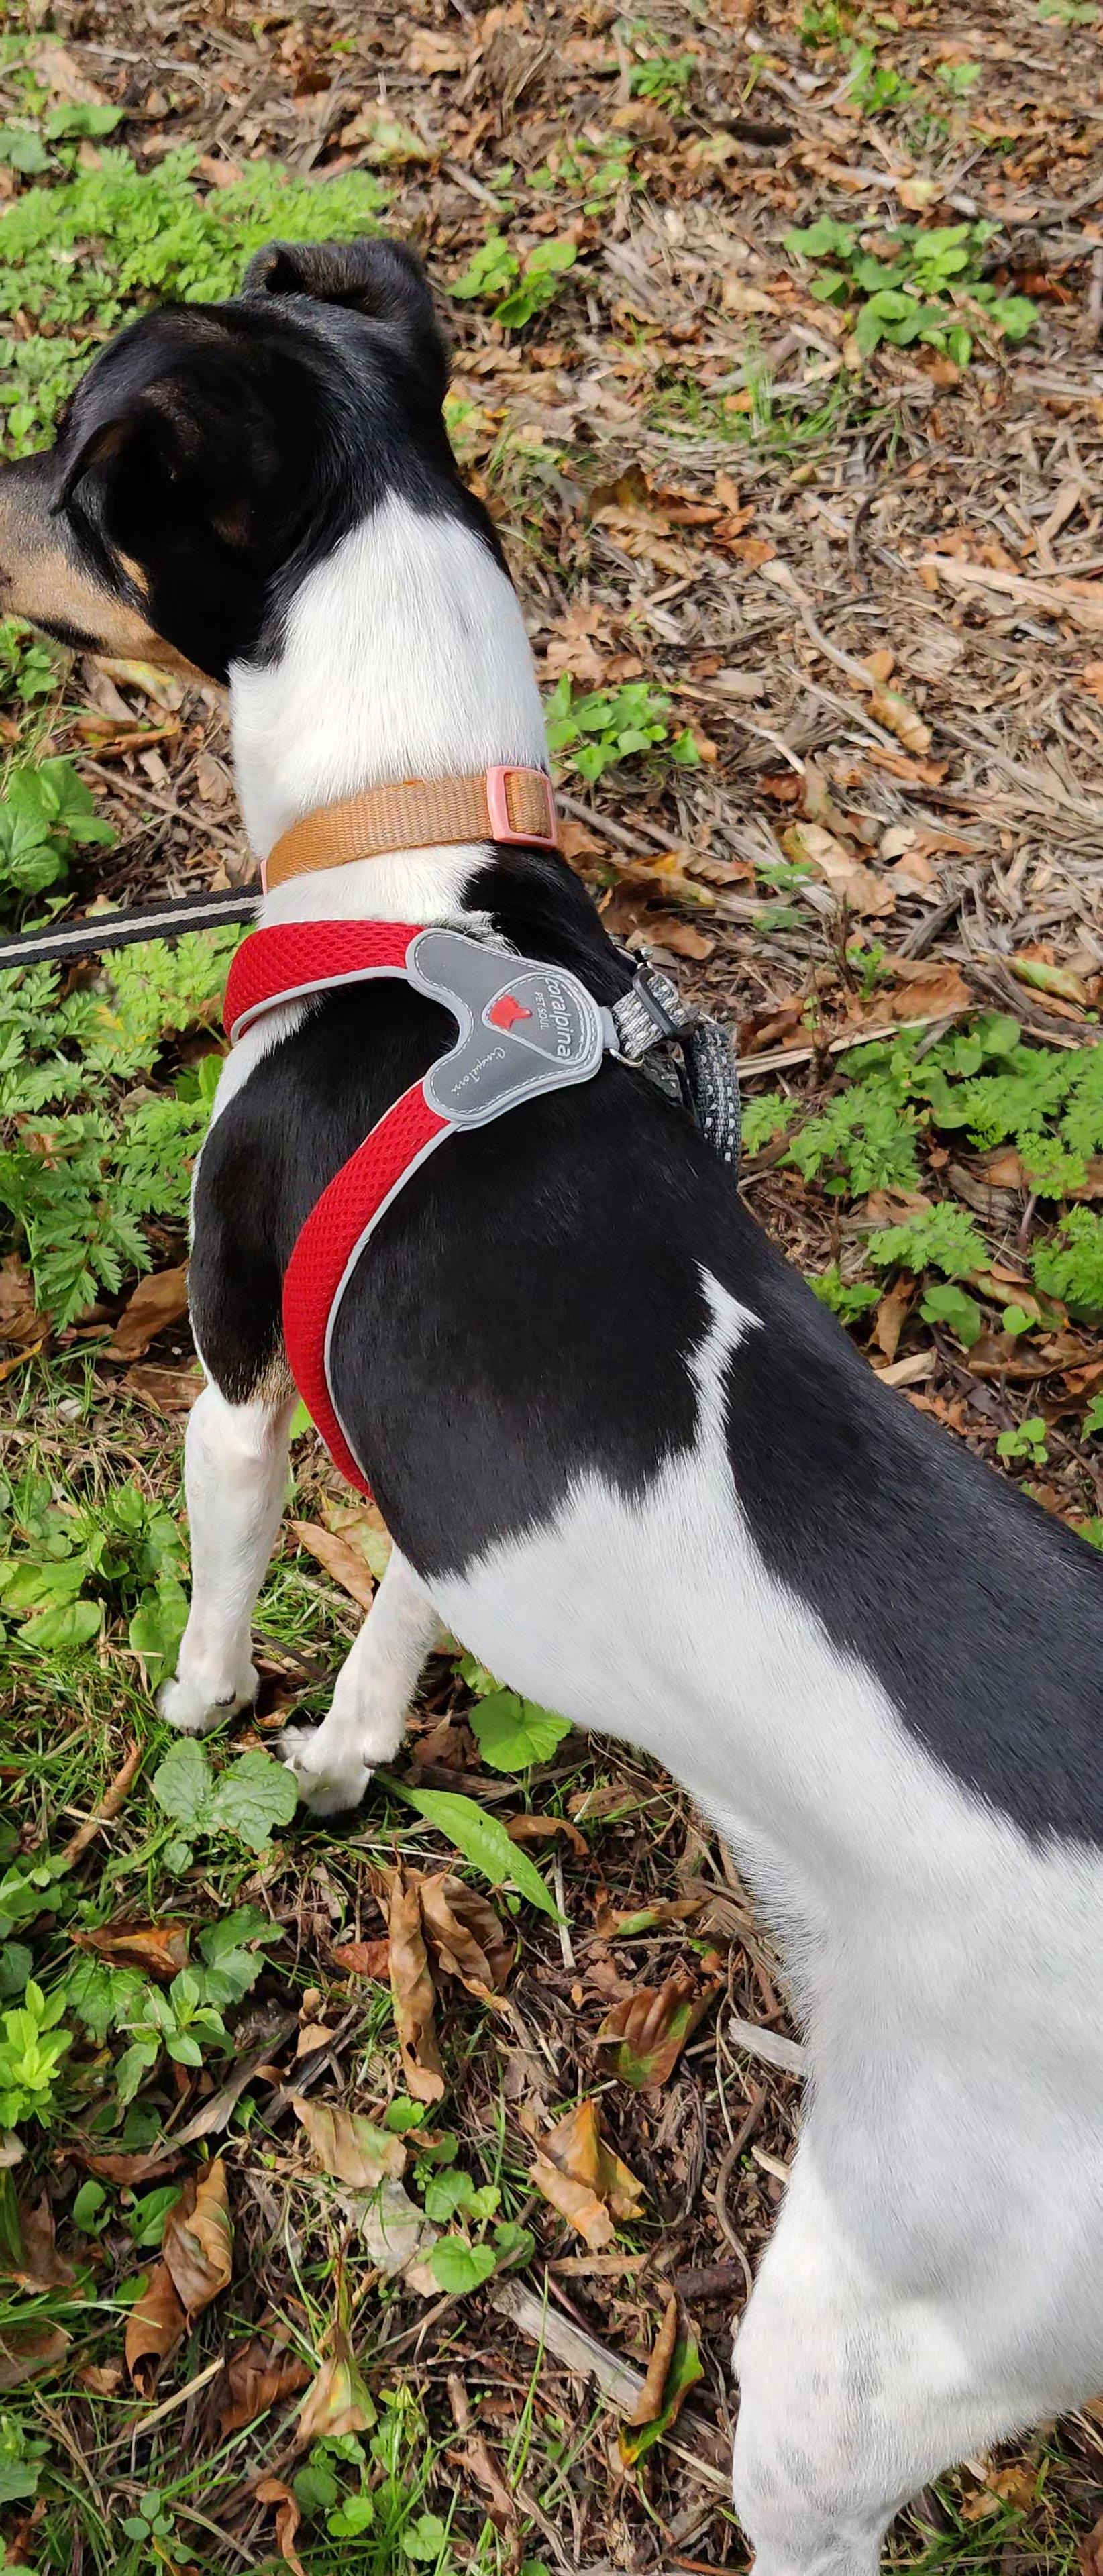Dog: (0, 215, 1103, 2576)
